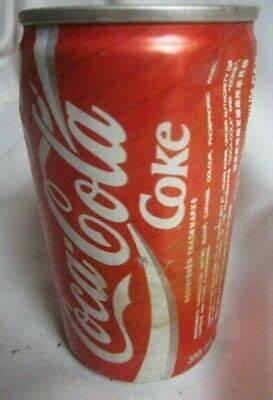metal: (19, 5, 260, 382)
